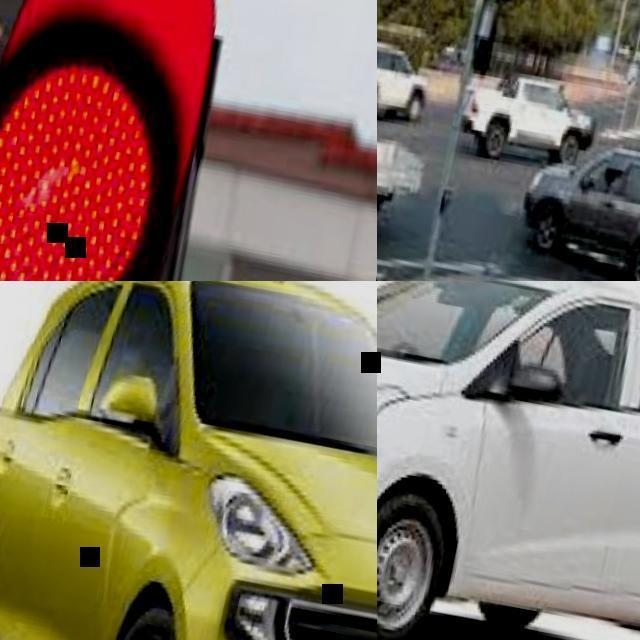car: (0, 0, 217, 255), (526, 100, 639, 276), (377, 27, 430, 121)
